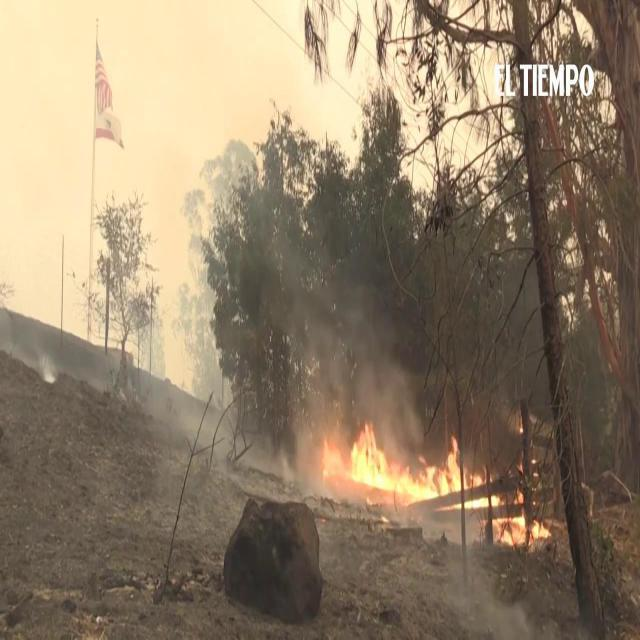Fire: (319, 420, 501, 504), (494, 516, 550, 546)
